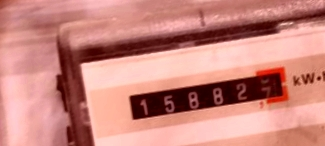1: (134, 94, 149, 115)
2: (232, 79, 246, 99)
5: (159, 91, 174, 112)
7: (258, 83, 271, 98)
8: (208, 83, 223, 106), (184, 87, 198, 109)
screen: (117, 59, 297, 128)
